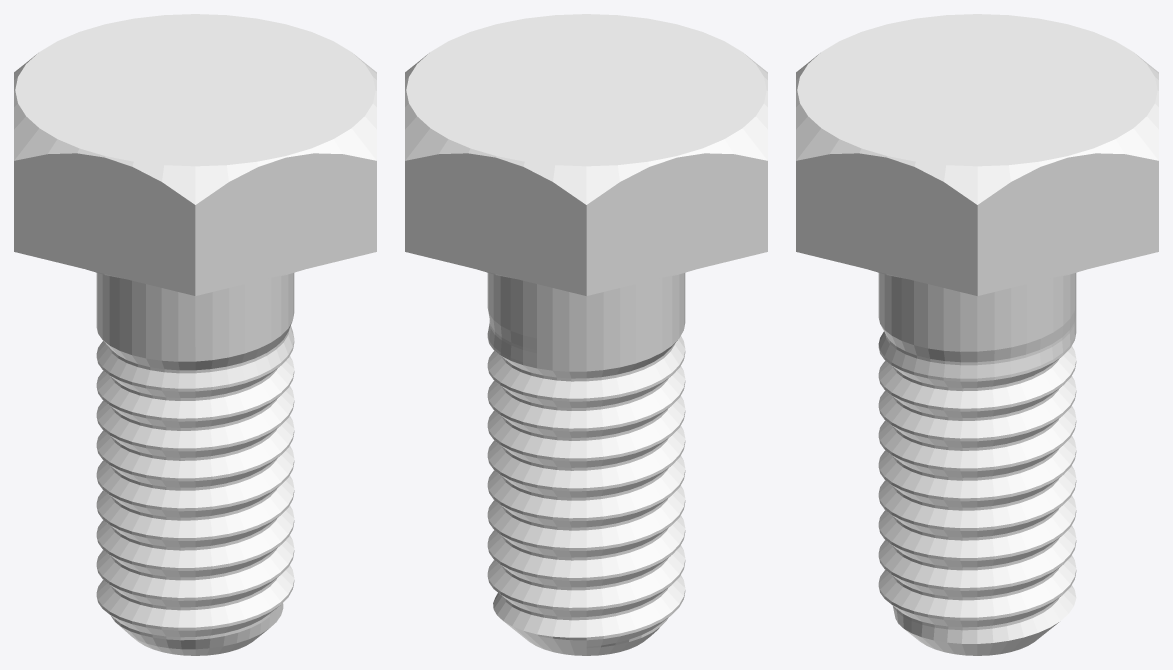
3 views of the same model, side by side, from view 1: azimuth 30°, elevation 25°; view 2: azimuth 150°, elevation 25°; view 3: azimuth 270°, elevation 25° (orthographic).
Visible parts, largest first — view 1: M3x8; view 2: M3x8; view 3: M3x8.
Part boxes in pixels (left/top/right/bottom): M3x8: left=14, top=14, right=376, bottom=655; M3x8: left=405, top=14, right=767, bottom=655; M3x8: left=796, top=14, right=1158, bottom=655.
Size of the model in its own units: 635 by 900 by 550.
Materials: 1 (1 with a texture image).
